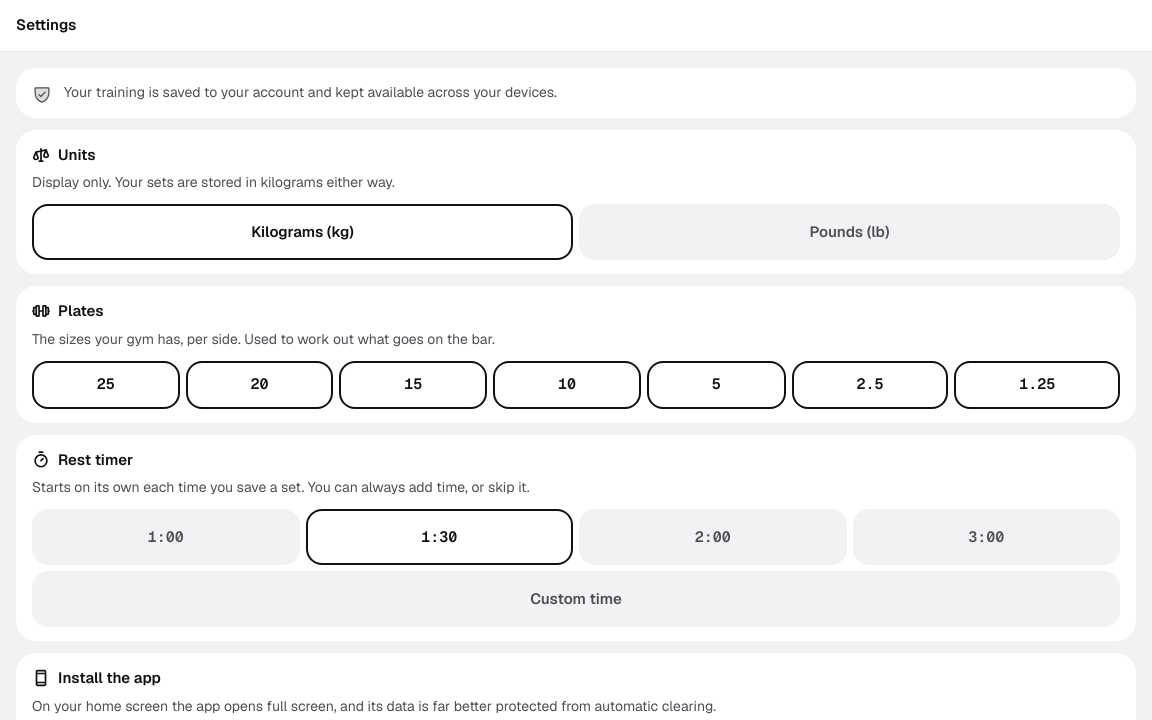
Test: a rest time the presets do not offer › pulls an entry out of bounds back into range, and says so on the field
The width and height of the screenshot is (1152, 720).
Click the button "Custom time". click: (576, 599)
box: [32, 571, 1120, 627]
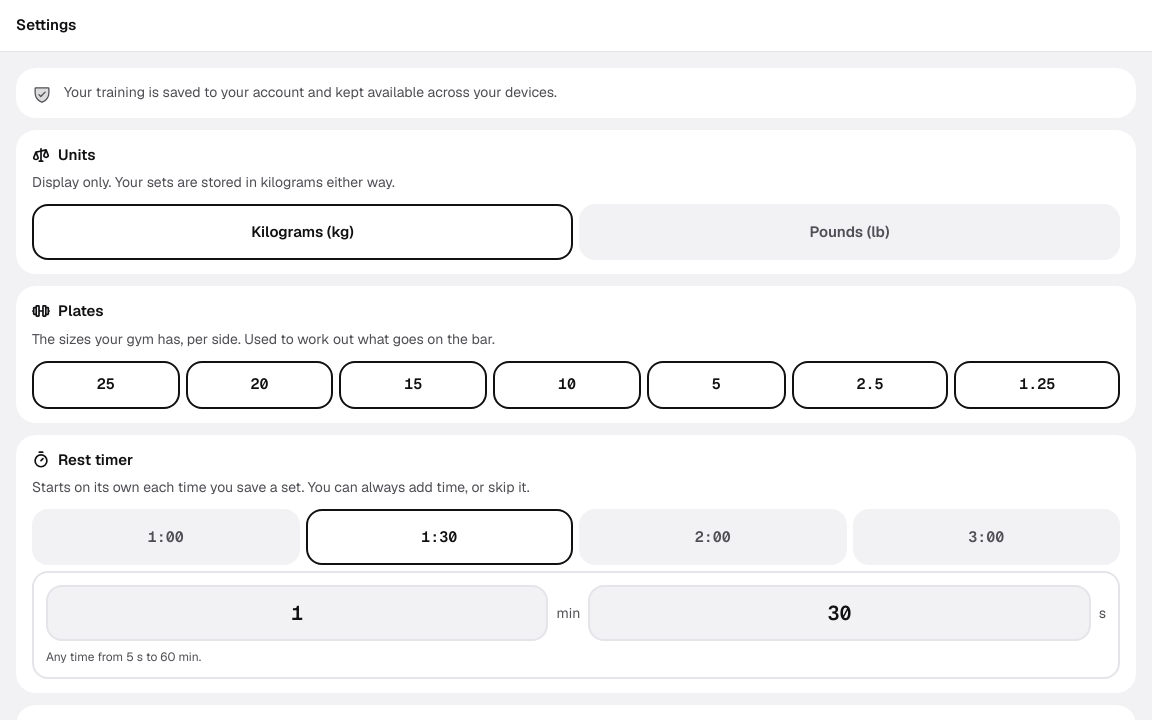
Replace the text in the field named "Rest, minutes" with "90". click: (297, 613)
box: [46, 585, 548, 641]
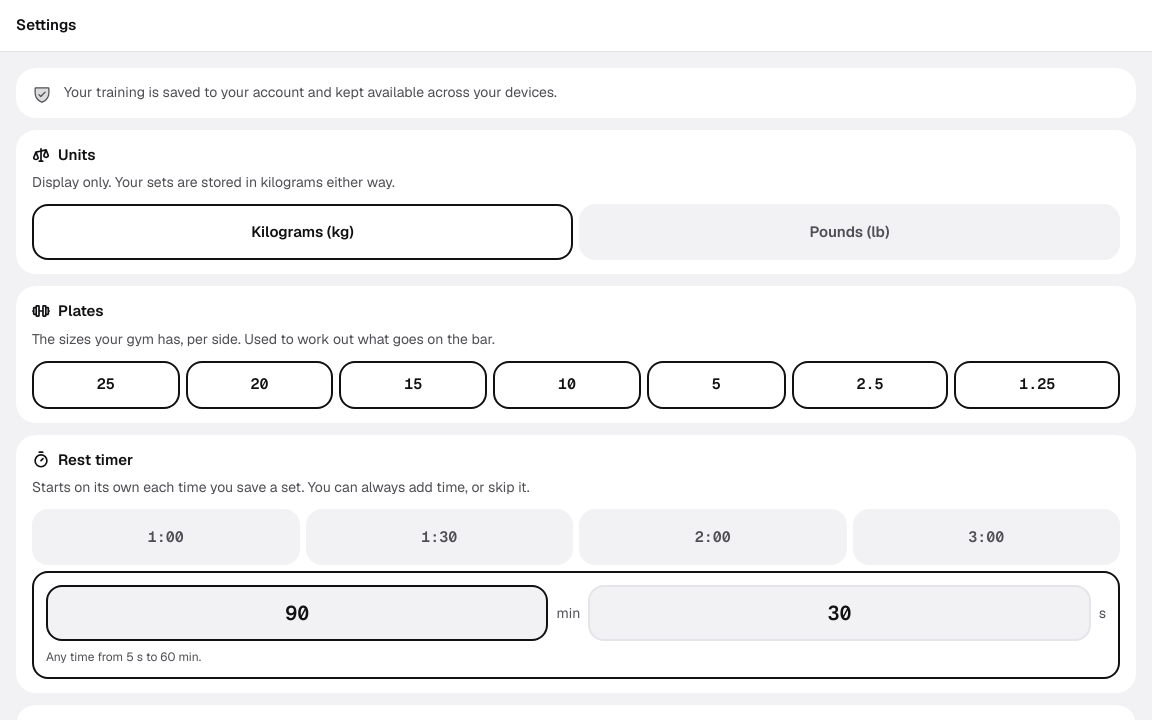
Press Tab
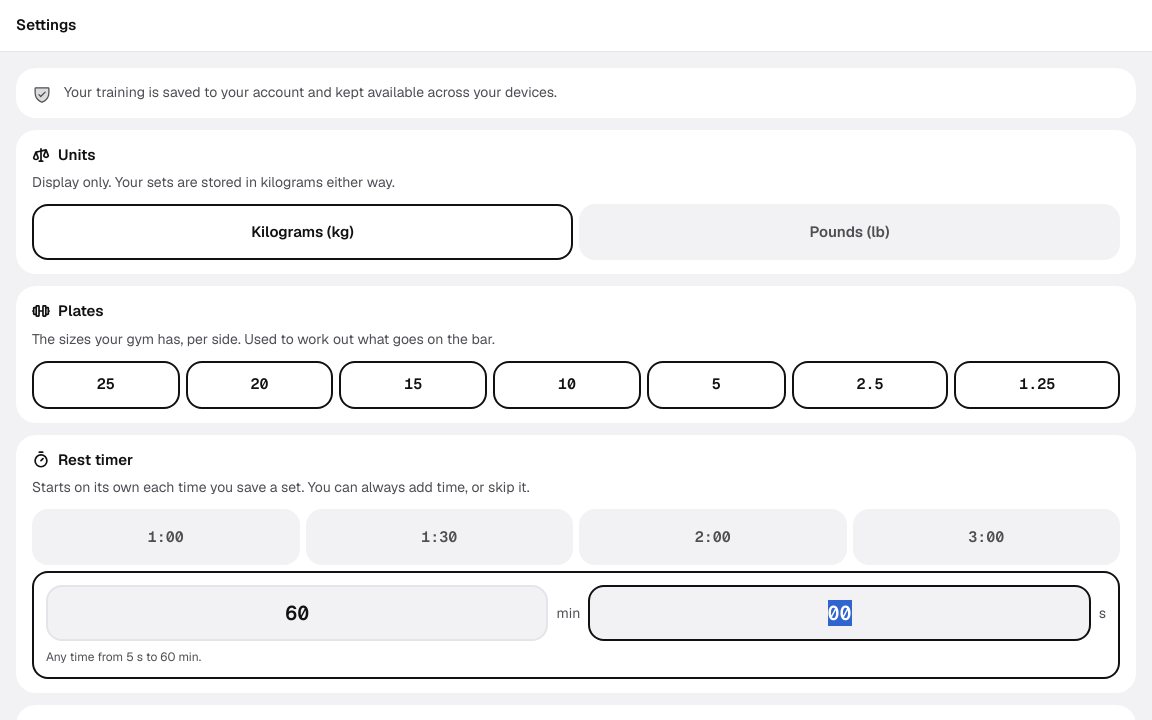
Now the field named "Rest, minutes" holds "60", box [46, 585, 548, 641]
Now the field named "Rest, seconds" holds "00", box [588, 585, 1091, 641]
